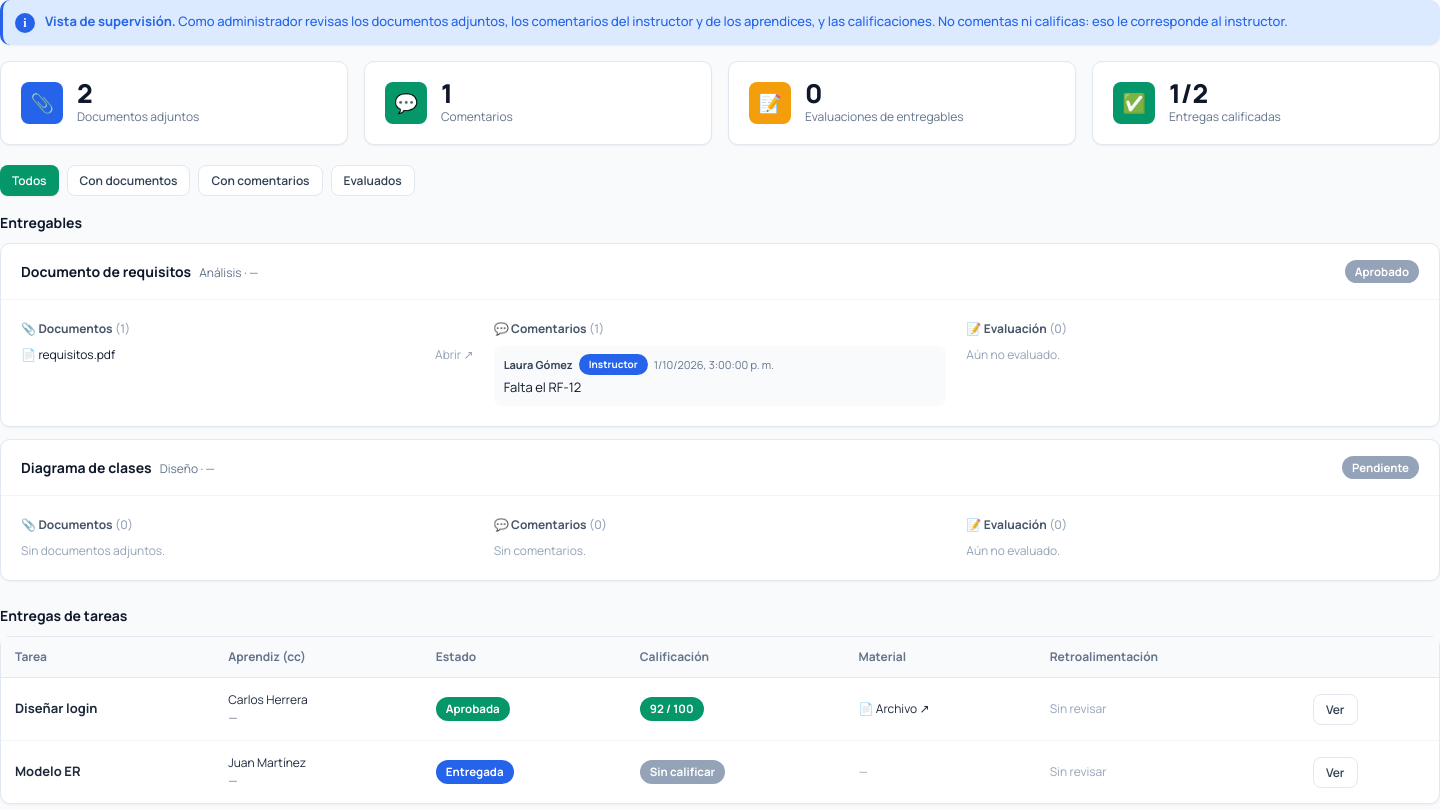
Test: RevisionProyecto › should be read only: the admin can open a delivery but there is nothing to grade
The image size is (1440, 810).
Check: the text "Diseñar login" is shown, box [15, 699, 98, 717]
Click the button "Ver" in the row of "Diseñar login".
click(1335, 709)  # box [1313, 694, 1358, 724]
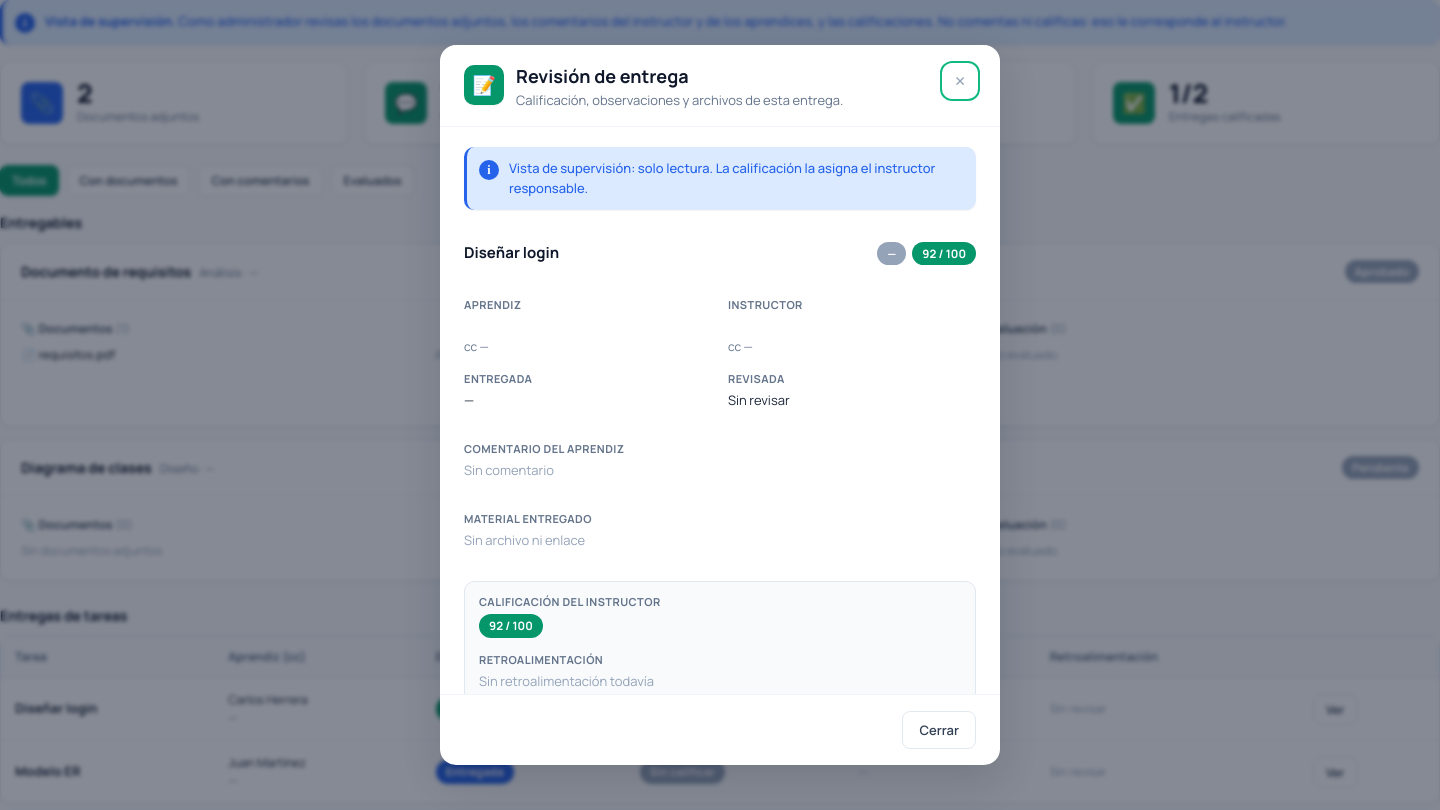
Check: the heading "Revisión de entrega" is shown, box [516, 64, 689, 88]
